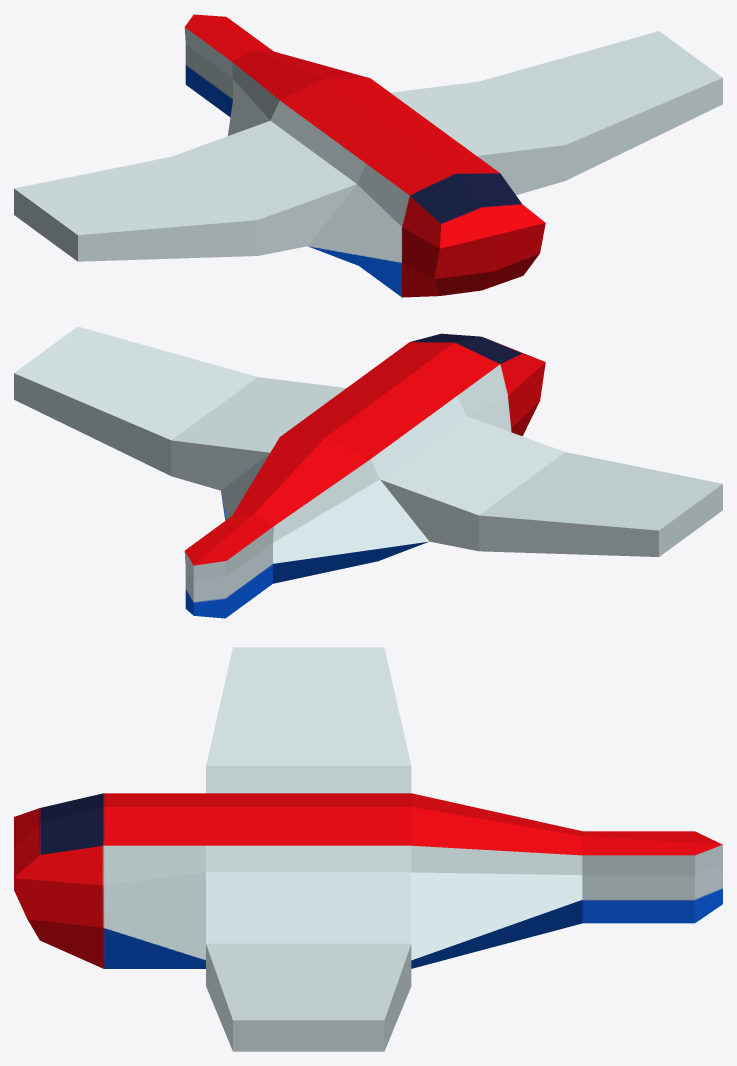
Rendered from PlayerShip_Model.fbx.
3 views of the same model, one above another, from view 1: azimuth 30°, elevation 25°; view 2: azimuth 150°, elevation 25°; view 3: azimuth 270°, elevation 25° (orthographic). The views are drawn at different scales.
Parts seen in each view (by area): view 1: Cube; view 2: Cube; view 3: Cube.
Part boxes in pixels (x1,y1,x2,y2): Cube: (14, 14, 722, 297); Cube: (14, 326, 722, 618); Cube: (14, 647, 722, 1051).
Size of the model in its own units: 1219 by 200 by 978.
Materials: 1 (1 with a texture image).
